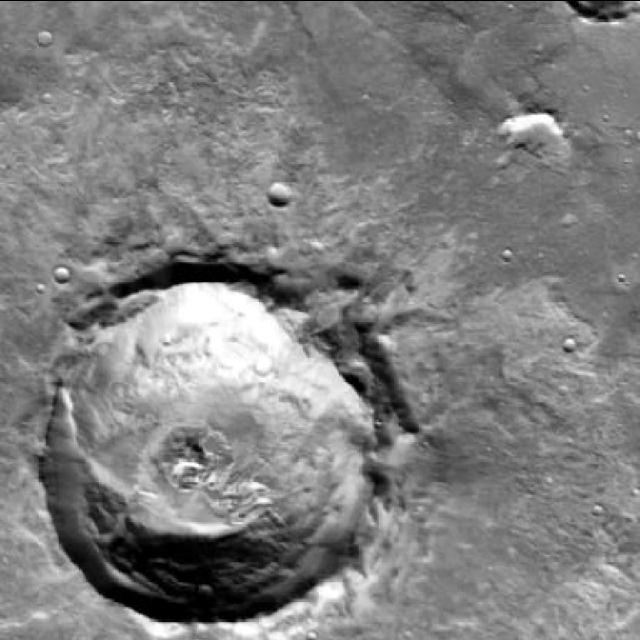crater: (42, 276, 374, 619), (515, 100, 567, 154), (270, 181, 292, 207), (54, 264, 70, 281)
